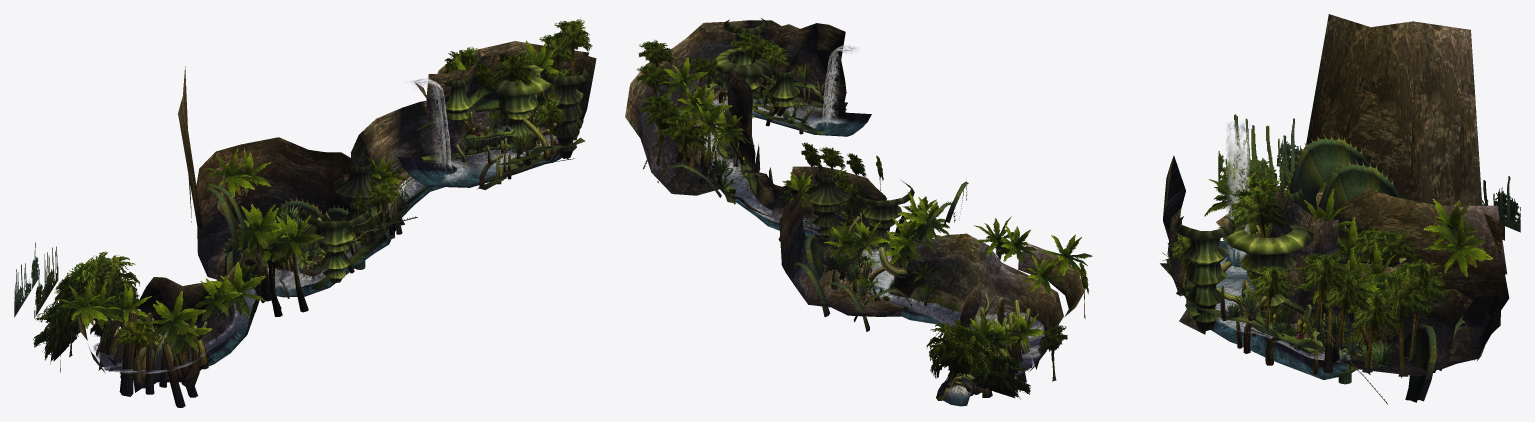
Rendered from 02River.gltf.
The picture shows the model from 3 angles, left to right: view 1: azimuth 30°, elevation 25°; view 2: azimuth 150°, elevation 25°; view 3: azimuth 270°, elevation 25°; orthographic projection. The views are drawn at different scales.
Parts seen in each view (by area): view 1: stg020_o02_Mesh_5, stg020_p02_Mesh_21, stg020_o02_Mesh_0, stg020_o02_Mesh_3, stg020_river_w_10_Mesh_9, stg020_o02_Mesh_7, stg020_o02_Mesh_6, stg020_river_w_10_Mesh_13, stg020_p02_Mesh_7, stg020_p02_Mesh_6, stg020_p07_Mesh_2, stg020_p09_Mesh_14 (+1 smaller); view 2: stg020_o02_Mesh_5, stg020_p02_Mesh_21, stg020_o07_Mesh_2, stg020_o02_Mesh_0, stg020_river_w_10_Mesh_9, stg020_o02_Mesh_3, stg020_p02_Mesh_6, stg020_o02_Mesh_6, stg020_o02_Mesh_7, stg020_p02_Mesh_7, stg020_a02_Mesh_0, stg020_river_w_10_Mesh_13 (+3 smaller); view 3: stg020_o02_Mesh_5, stg020_p02_Mesh_21, stg020_o02_Mesh_0, stg020_o02_Mesh_6, stg020_p07_Mesh_2, stg020_o02_Mesh_3, stg020_river_w_10_Mesh_13, stg020_o02_Mesh_7, stg020_p02_Mesh_6, stg020_p02_Mesh_7, stg020_river_w_10_Mesh_9, stg020_p09_Mesh_14 (+1 smaller).
Part boxes in pixels (x1,y1,x2,y2): stg020_o02_Mesh_5: (97, 41, 596, 382); stg020_p02_Mesh_21: (33, 19, 592, 383); stg020_o02_Mesh_0: (298, 62, 590, 282); stg020_o02_Mesh_3: (96, 110, 579, 407); stg020_river_w_10_Mesh_9: (95, 135, 558, 373); stg020_o02_Mesh_7: (311, 72, 585, 290); stg020_o02_Mesh_6: (206, 184, 349, 312); stg020_river_w_10_Mesh_13: (272, 78, 452, 295); stg020_p02_Mesh_7: (271, 90, 579, 260); stg020_p02_Mesh_6: (237, 100, 583, 260); stg020_p07_Mesh_2: (14, 242, 58, 318); stg020_p09_Mesh_14: (201, 73, 579, 290); stg020_o02_Mesh_5: (625, 20, 981, 406); stg020_p02_Mesh_21: (636, 32, 1092, 399); stg020_o07_Mesh_2: (910, 233, 1084, 371); stg020_o02_Mesh_0: (712, 18, 914, 251); stg020_river_w_10_Mesh_9: (698, 98, 1043, 388); stg020_o02_Mesh_3: (684, 73, 1031, 400); stg020_p02_Mesh_6: (677, 64, 937, 305); stg020_o02_Mesh_6: (658, 164, 968, 331); stg020_o02_Mesh_7: (643, 74, 891, 250); stg020_p02_Mesh_7: (665, 76, 865, 284); stg020_a02_Mesh_0: (773, 209, 986, 329); stg020_river_w_10_Mesh_13: (822, 45, 894, 283); stg020_o02_Mesh_5: (1163, 14, 1509, 379); stg020_p02_Mesh_21: (1167, 160, 1492, 377); stg020_o02_Mesh_0: (1173, 187, 1363, 384); stg020_o02_Mesh_6: (1289, 139, 1464, 402); stg020_p07_Mesh_2: (1218, 114, 1520, 240); stg020_o02_Mesh_3: (1182, 224, 1484, 374); stg020_river_w_10_Mesh_13: (1226, 122, 1249, 261); stg020_o02_Mesh_7: (1160, 226, 1357, 377); stg020_p02_Mesh_6: (1162, 239, 1377, 360); stg020_p02_Mesh_7: (1188, 271, 1399, 370); stg020_river_w_10_Mesh_9: (1215, 257, 1348, 362); stg020_p09_Mesh_14: (1183, 134, 1470, 404).
Size of the model in its own units: 369 by 190 by 171.
Materials: 25 (25 with a texture image).
